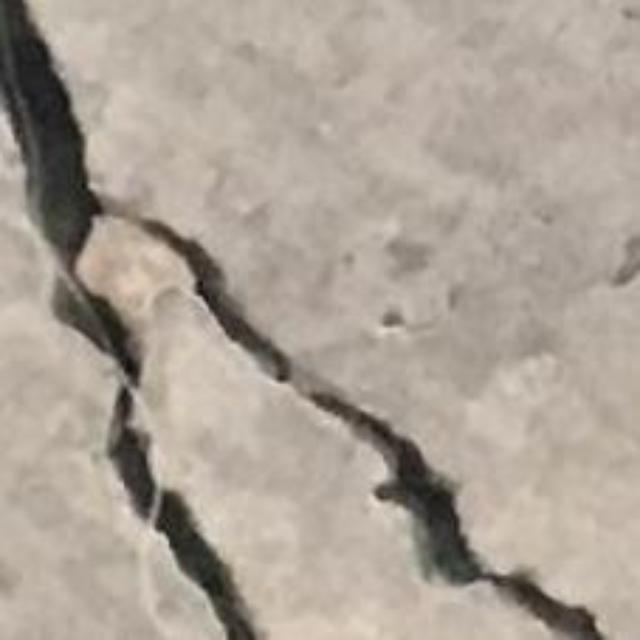crack: (0, 0, 606, 639)
